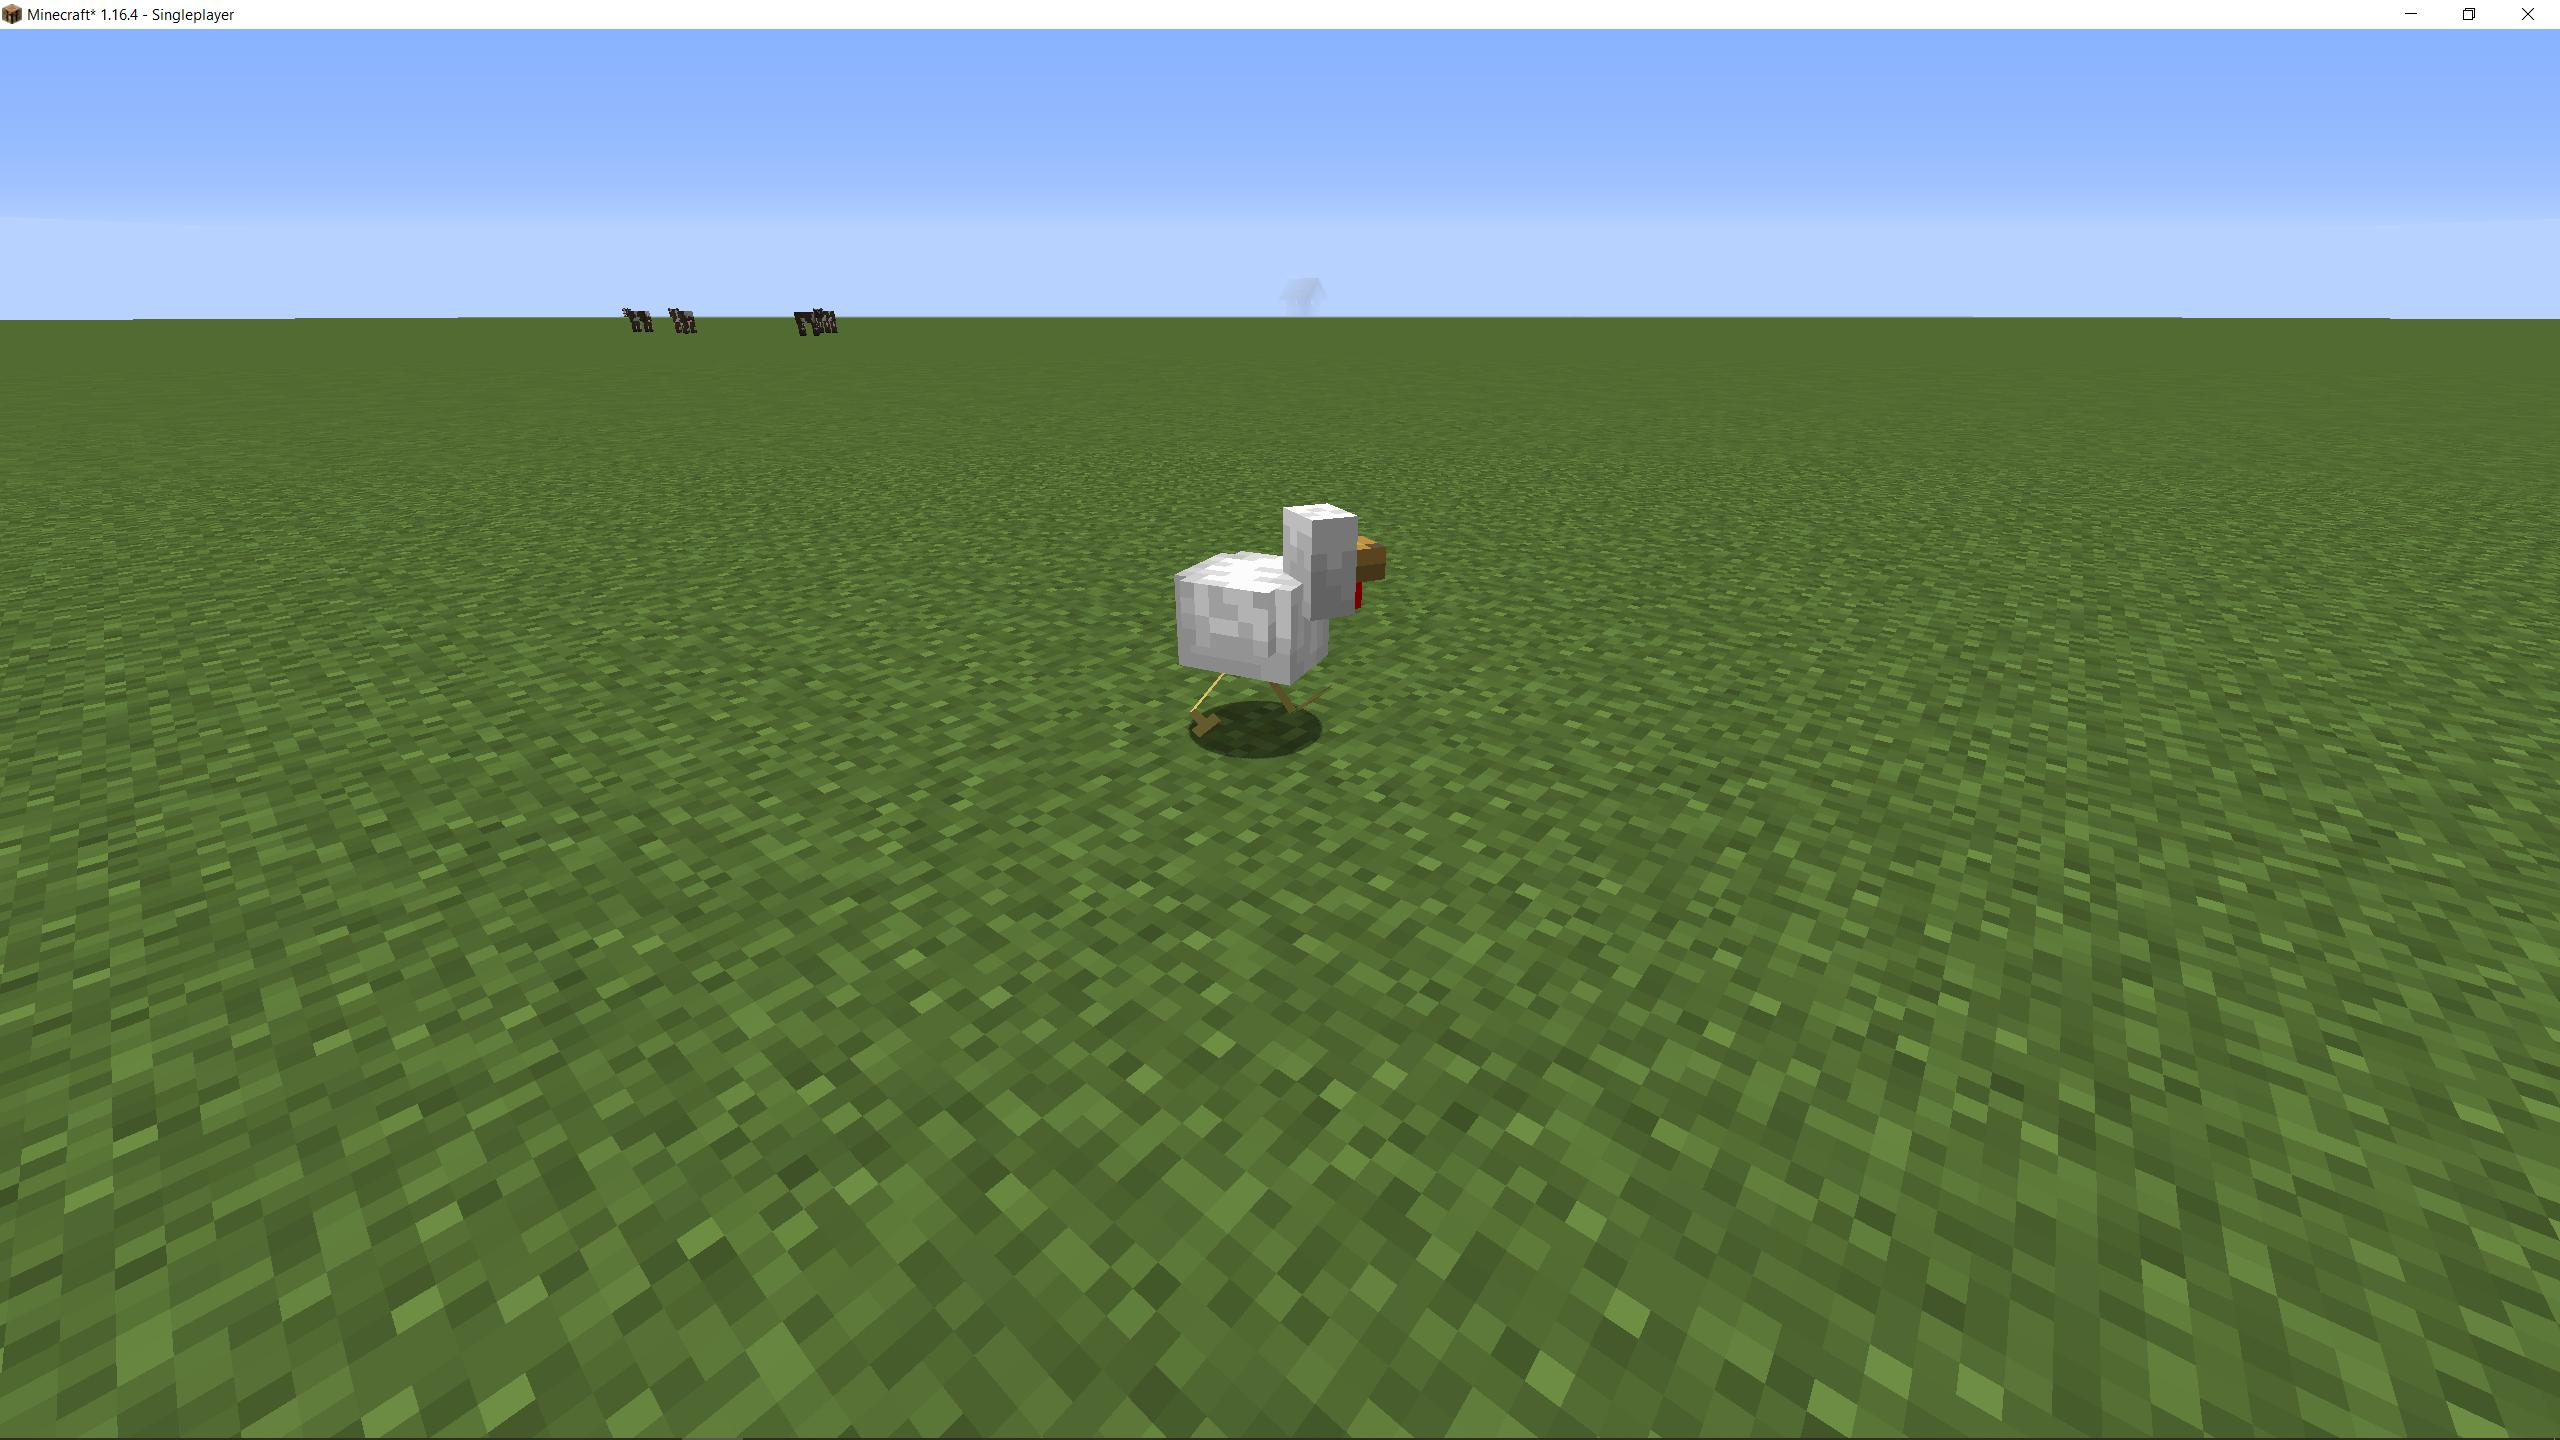chicken: (1166, 489, 1391, 754)
